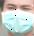with_mask: (2, 2, 34, 36)
